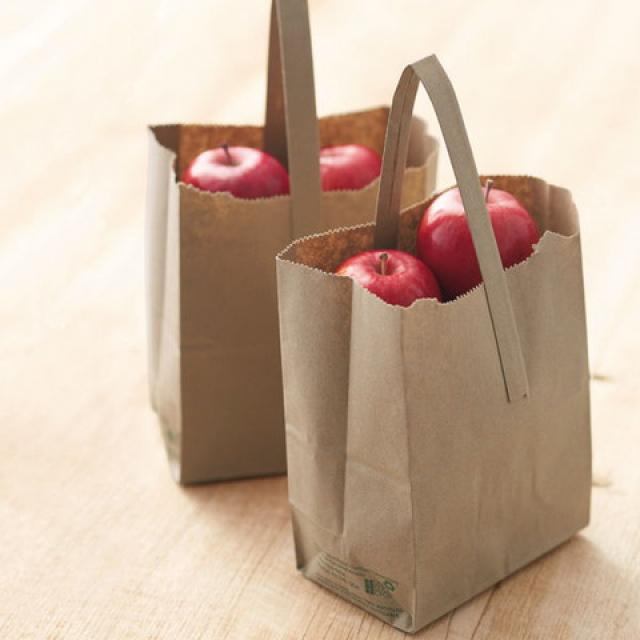paper bag: (276, 51, 596, 636), (143, 3, 440, 491)
